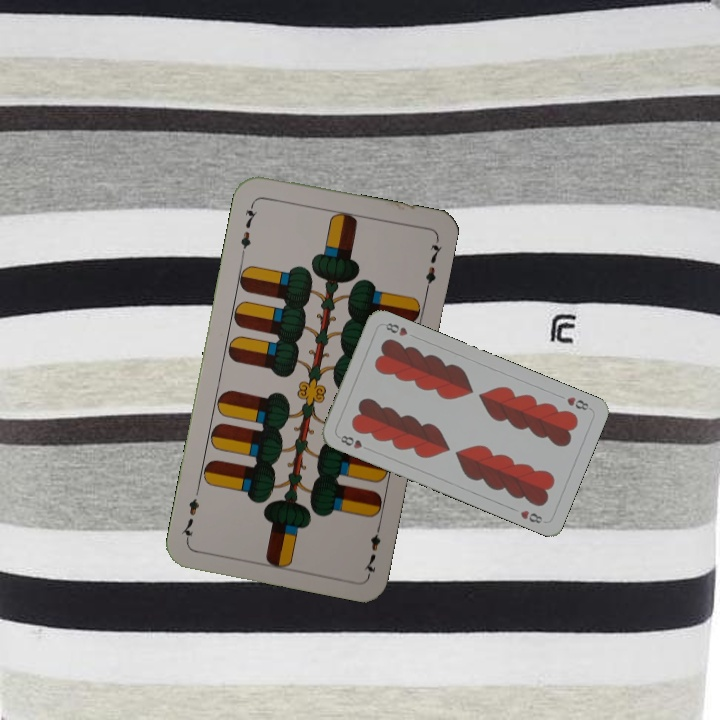E7: (236, 198, 260, 257), (360, 519, 384, 577)
H8: (334, 431, 373, 453), (563, 393, 594, 413)
